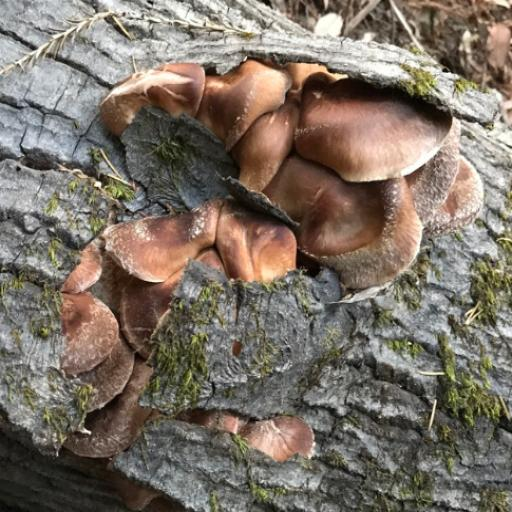Shiitake Mushroom: (93, 0, 507, 319), (105, 207, 298, 284)
